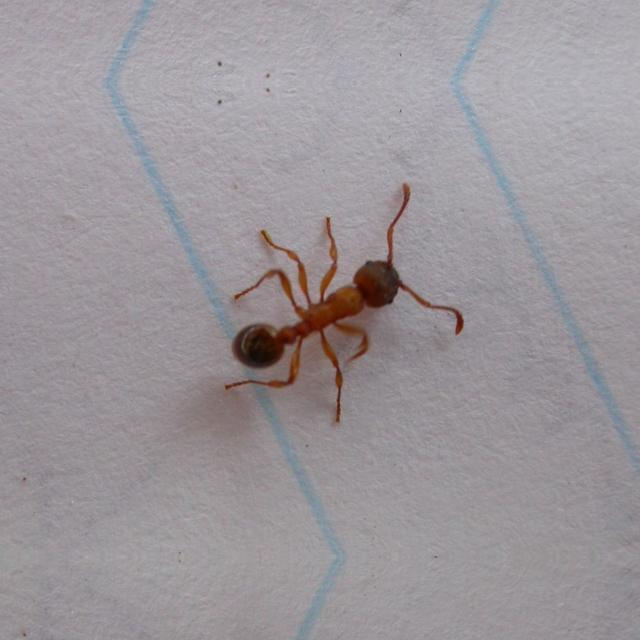Myrmica: (213, 166, 419, 414)
